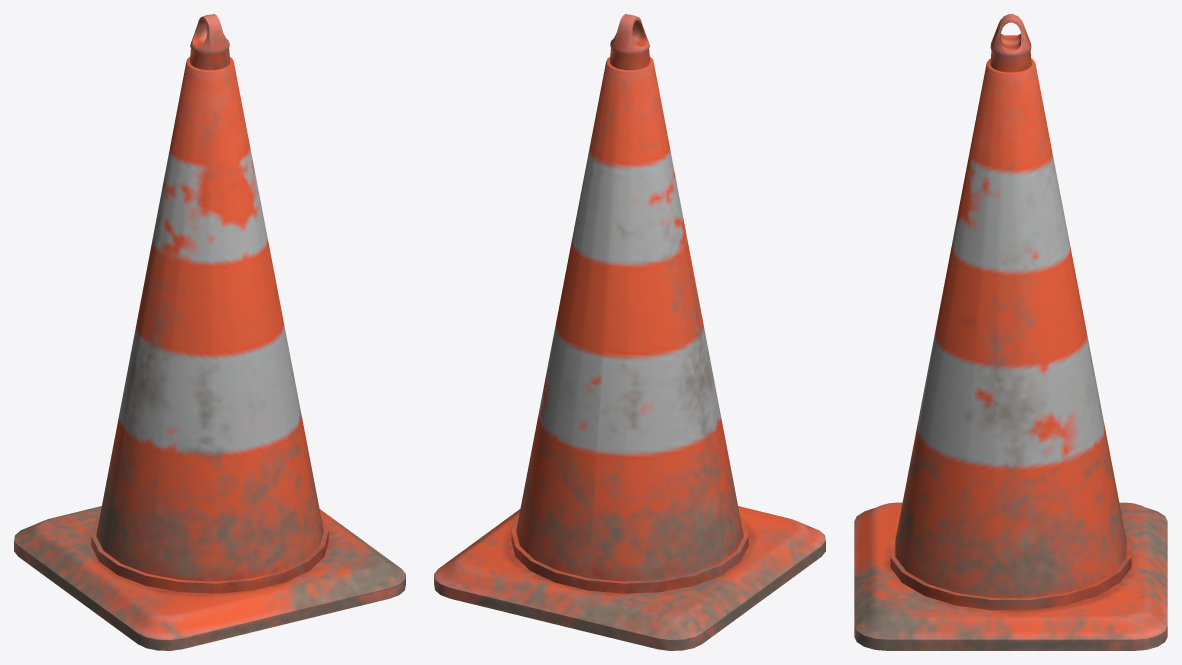
The picture shows the model from 3 angles, left to right: view 1: azimuth 30°, elevation 25°; view 2: azimuth 150°, elevation 25°; view 3: azimuth 270°, elevation 25°; orthographic projection. The views are drawn at different scales.
Visible parts, largest first — view 1: SM_Cone_1_LOD0; view 2: SM_Cone_1_LOD0; view 3: SM_Cone_1_LOD0.
Part boxes in pixels (x1,y1,x2,y2): SM_Cone_1_LOD0: (14,14,405,650); SM_Cone_1_LOD0: (434,14,825,650); SM_Cone_1_LOD0: (854,14,1167,650).
Bounding box in the file's own units: 54 × 54 × 108.
1 material, 1 textured.
